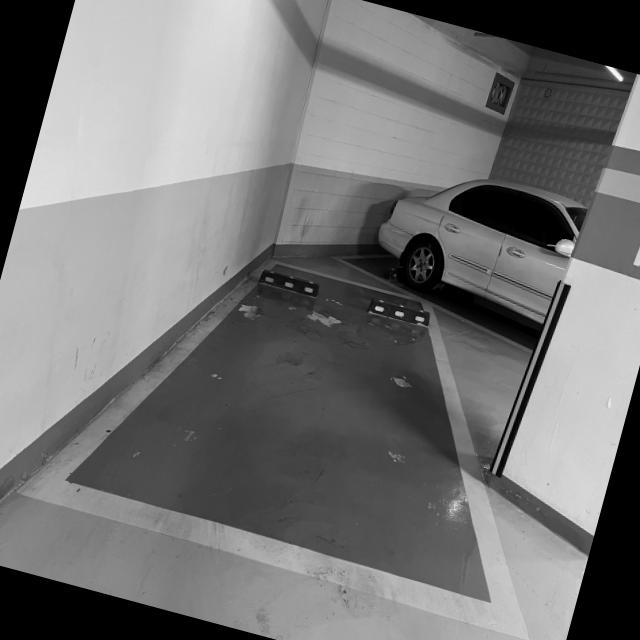free: (0, 194, 572, 621)
